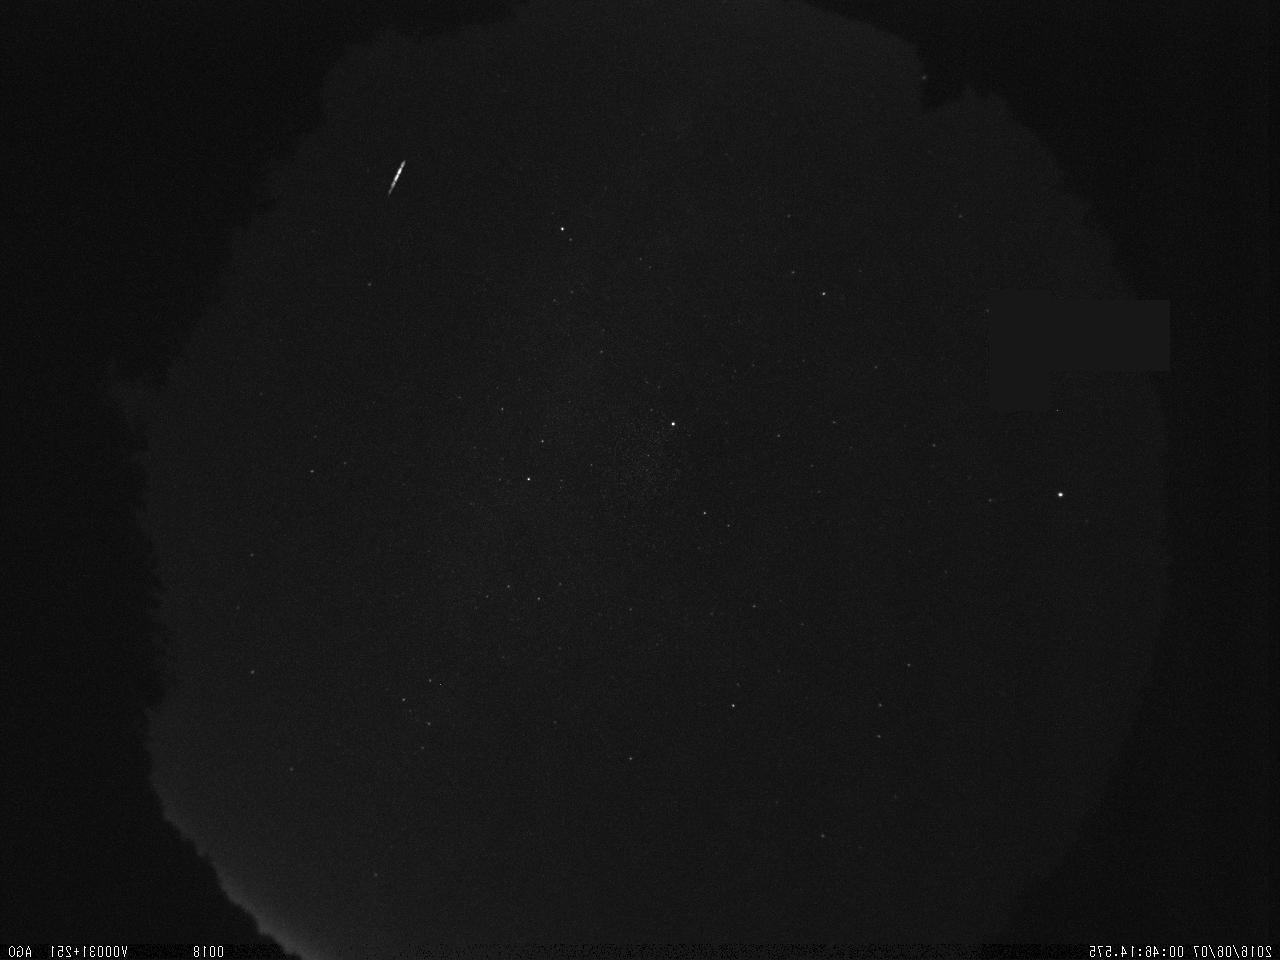meteor: (380, 153, 419, 206)
